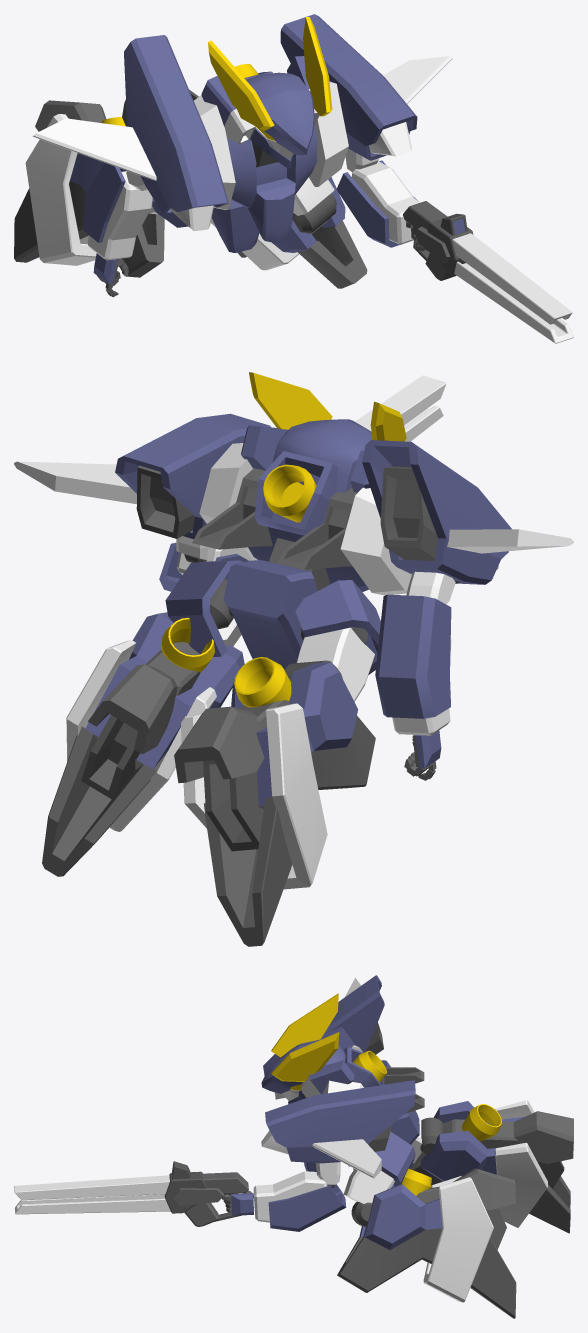
The model's file is Player2.fbx.
The picture shows the model from 3 angles, top to bottom: view 1: azimuth 30°, elevation 25°; view 2: azimuth 150°, elevation 25°; view 3: azimuth 270°, elevation 25°; orthographic projection. The views are drawn at different scales.
Visible parts, largest first — view 1: pCube50 (×2), pCube40 (×2), pCube53 (×2), pCube2, pCube54 (×2), pCube97 (×2), pCube55 (×2), RailGun:pCube12, pCube14, pCube73, RailGun:pCube3, pCube33 (+18 smaller); view 2: pCube50 (×2), pCube24 (×2), pCube40 (×2), pCube42 (×2), pCube55 (×2), pCube37 (×2), pCube44 (×2), pCube43 (×2), pCube4, pCube52 (×2), pCube53 (×2), pCube2 (+17 smaller); view 3: pCube50 (×2), pCube40 (×2), pCube42 (×2), pCube37 (×2), pCube97, pCube24 (×2), RailGun:pCube12, RailGun:pCube3, pCube55, pCube98, pCube33, pCube54 (+19 smaller).
Part boxes in pixels (<box>): pCube50 (×2): <box>124,14,417,214</box>; pCube40 (×2): <box>25,114,298,270</box>; pCube53 (×2): <box>33,56,452,180</box>; pCube2: <box>227,71,317,243</box>; pCube54 (×2): <box>88,161,419,260</box>; pCube97 (×2): <box>69,180,367,288</box>; pCube55 (×2): <box>82,160,417,247</box>; RailGun:pCube12: <box>452,233,572,324</box>; pCube14: <box>261,90,314,155</box>; pCube73: <box>309,81,348,186</box>; RailGun:pCube3: <box>454,261,573,343</box>; pCube33: <box>208,40,274,130</box>; pCube50 (×2): <box>115,413,511,584</box>; pCube24 (×2): <box>42,726,292,946</box>; pCube40 (×2): <box>66,640,327,889</box>; pCube42 (×2): <box>85,612,358,806</box>; pCube55 (×2): <box>159,542,451,718</box>; pCube37 (×2): <box>88,664,264,783</box>; pCube44 (×2): <box>165,560,380,674</box>; pCube43 (×2): <box>81,715,263,851</box>; pCube4: <box>223,560,317,669</box>; pCube52 (×2): <box>136,465,437,560</box>; pCube53 (×2): <box>14,461,573,553</box>; pCube2: <box>248,451,368,591</box>; pCube50 (×2): <box>263,975,415,1163</box>; pCube40 (×2): <box>423,1100,547,1302</box>; pCube42 (×2): <box>359,1101,524,1249</box>; pCube37 (×2): <box>453,1111,573,1210</box>; pCube97: <box>337,1228,442,1292</box>; pCube24 (×2): <box>470,1176,570,1318</box>; RailGun:pCube12: <box>14,1175,169,1200</box>; RailGun:pCube3: <box>14,1194,170,1214</box>; pCube55: <box>268,1184,346,1231</box>; pCube98: <box>271,1032,339,1081</box>; pCube33: <box>271,993,338,1057</box>; pCube54: <box>253,1171,327,1222</box>.
Size of the model in its own units: 4.87 by 3.57 by 6.76.
